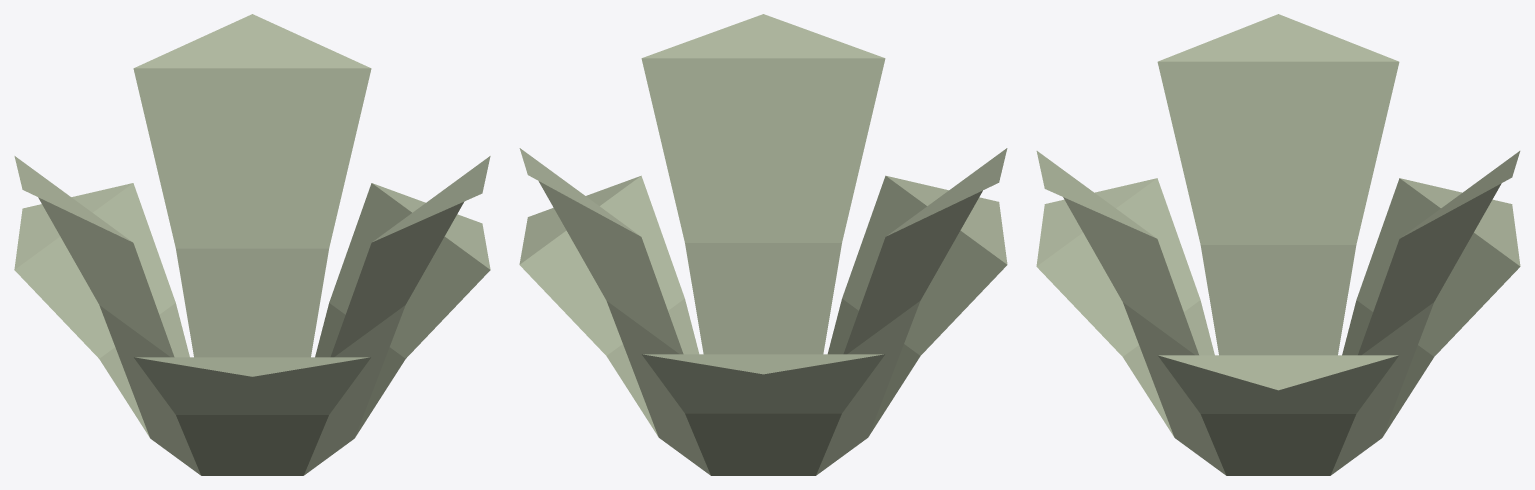
The model's file is plant_bushLarge.glb.
3 views of the same model, side by side, from view 1: azimuth 30°, elevation 25°; view 2: azimuth 150°, elevation 25°; view 3: azimuth 270°, elevation 25° (orthographic). The views are drawn at different scales.
Visible parts, largest first — view 1: plant_bushLarge; view 2: plant_bushLarge; view 3: plant_bushLarge.
Boxes of the visible parts, x1=… form: plant_bushLarge: x1=14, y1=14, x2=490, y2=475; plant_bushLarge: x1=519, y1=14, x2=1007, y2=475; plant_bushLarge: x1=1036, y1=14, x2=1520, y2=475.
Bounding box in the file's own units: 1.54 × 1 × 1.38.
